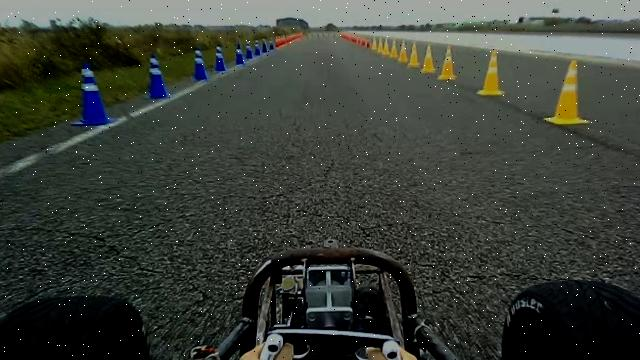blue cone: (70, 60, 115, 126), (145, 52, 168, 99), (192, 46, 208, 81), (214, 44, 226, 72), (235, 41, 244, 65), (245, 40, 253, 58), (261, 38, 268, 53), (254, 40, 260, 55), (268, 38, 274, 51)
yellow cone: (543, 59, 590, 125), (476, 49, 505, 96), (437, 44, 457, 80), (420, 43, 436, 73), (407, 42, 420, 67), (398, 39, 408, 63), (390, 39, 398, 58), (382, 37, 390, 56), (377, 36, 384, 54), (370, 36, 377, 50)
